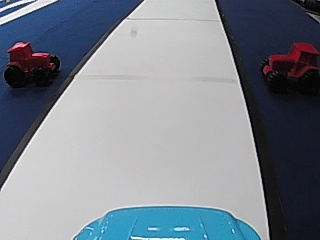tractor: (259, 40, 319, 95), (2, 38, 60, 88)
